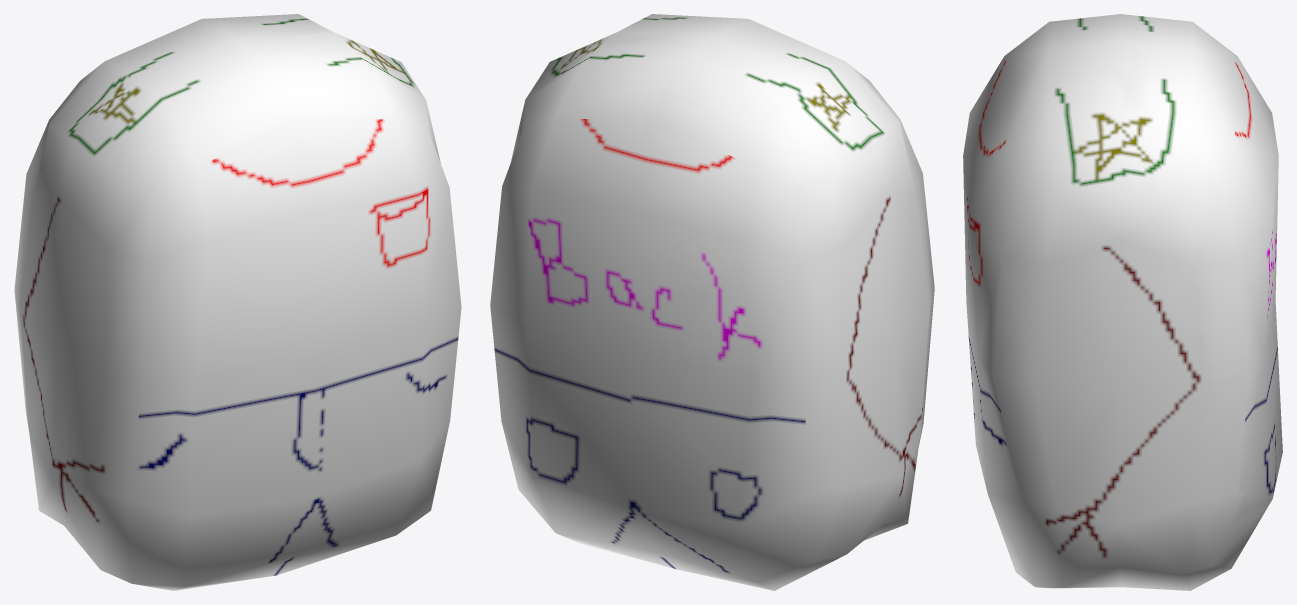
The model's file is torso.obj.
3 views of the same model, side by side, from view 1: azimuth 30°, elevation 25°; view 2: azimuth 150°, elevation 25°; view 3: azimuth 270°, elevation 25° (orthographic).
Visible parts, largest first — view 1: Cube; view 2: Cube; view 3: Cube.
Boxes of the visible parts, bbox=[...] form: Cube: bbox=[14, 14, 461, 590]; Cube: bbox=[490, 14, 934, 590]; Cube: bbox=[963, 14, 1282, 590].
Bounding box in the file's own units: 1.34 × 1.73 × 0.9958.
